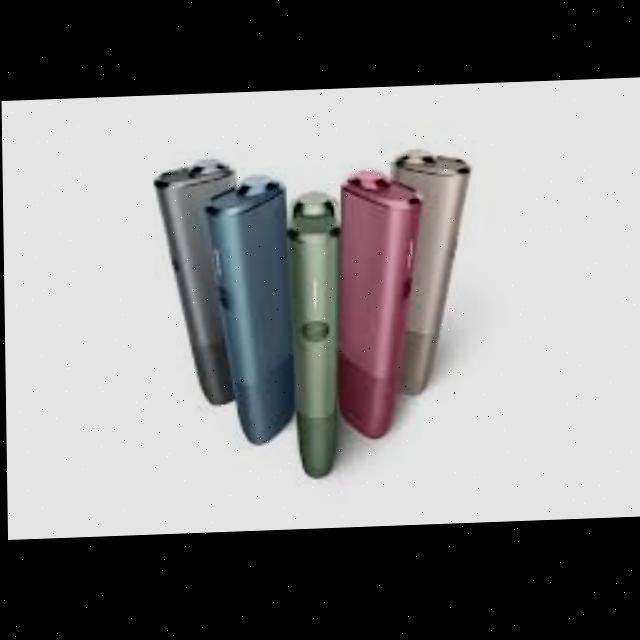vape: (203, 177, 295, 449), (338, 171, 425, 443), (152, 159, 240, 410), (389, 151, 473, 400), (284, 192, 342, 482)
